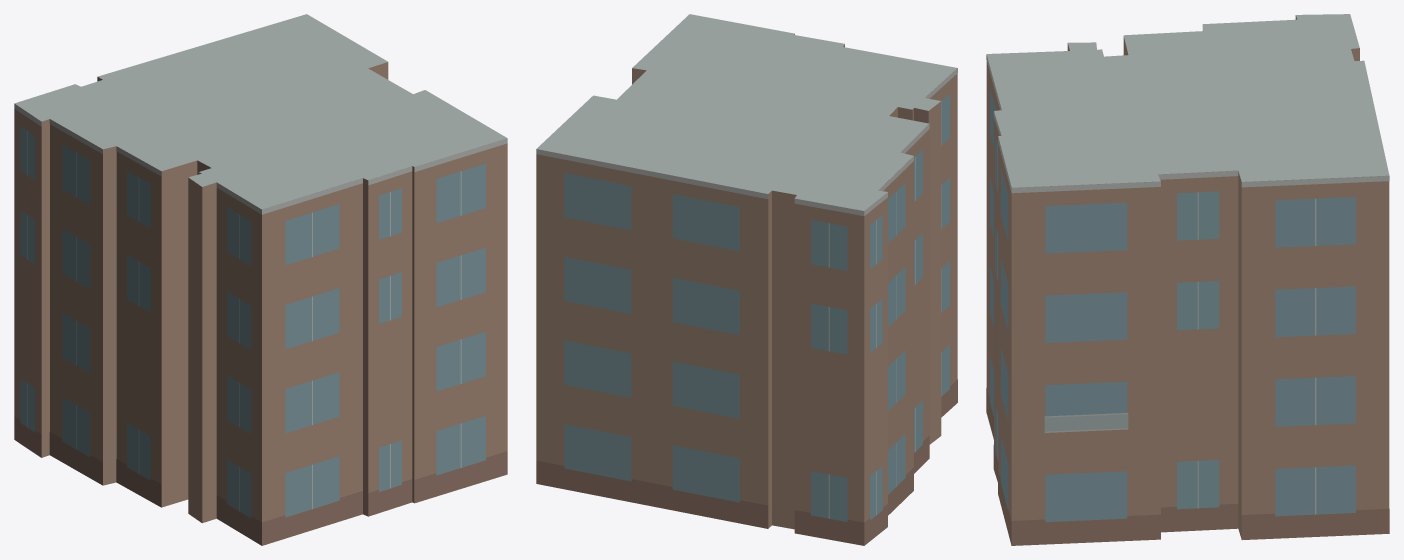
The model's file is survey-upis-32472979.glb.
3 views of the same model, side by side, from view 1: azimuth 30°, elevation 25°; view 2: azimuth 150°, elevation 25°; view 3: azimuth 270°, elevation 25° (orthographic). The views are drawn at different scales.
Visible parts, largest first — view 1: survey-upis-32472979.tmp; view 2: survey-upis-32472979.tmp; view 3: survey-upis-32472979.tmp.
Part boxes in pixels (<box>): survey-upis-32472979.tmp: <box>14,14,507,545</box>; survey-upis-32472979.tmp: <box>536,14,957,545</box>; survey-upis-32472979.tmp: <box>986,14,1389,545</box>.
Size of the model in its own units: 16.55 by 15.9 by 16.23.
